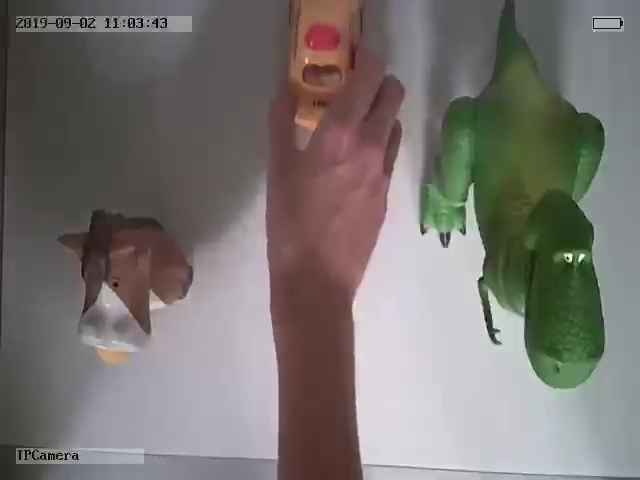horse: (57, 209, 193, 364)
rex: (419, 5, 606, 391)
